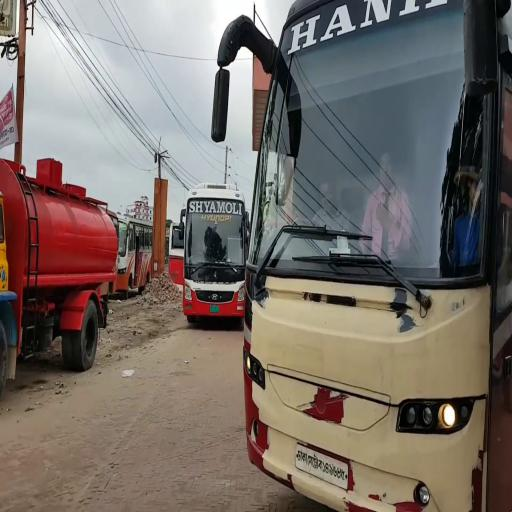bus: (210, 4, 509, 510), (184, 182, 244, 324), (120, 215, 153, 299)
truck: (2, 156, 117, 391)
